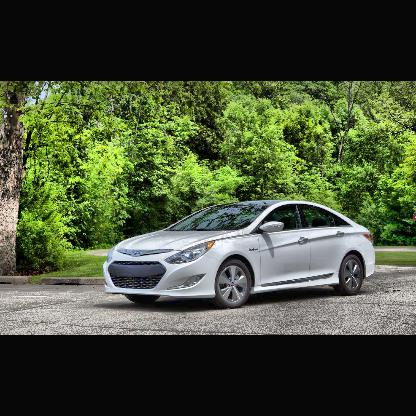Hyundai Sonata Hybrid Sedan 2012: (105, 201, 377, 308)
